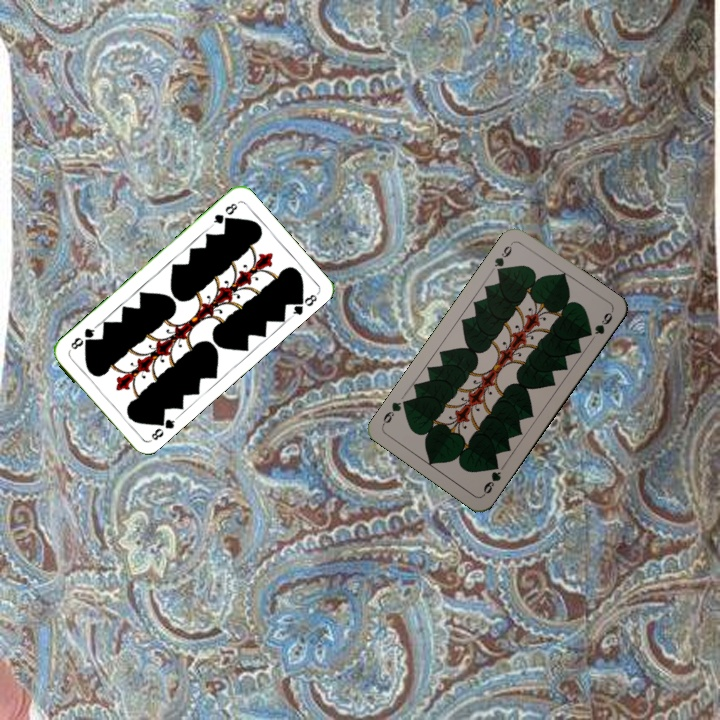G8: (147, 412, 179, 443), (207, 199, 240, 229)
G9: (490, 238, 516, 277), (479, 459, 504, 498)
